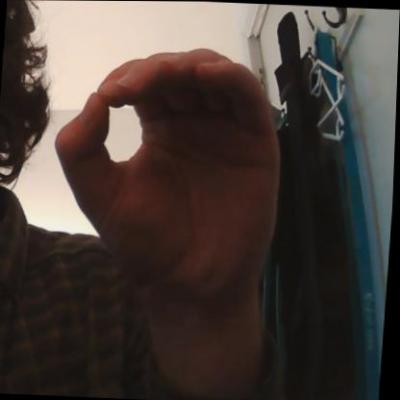hand: (46, 41, 288, 302)
